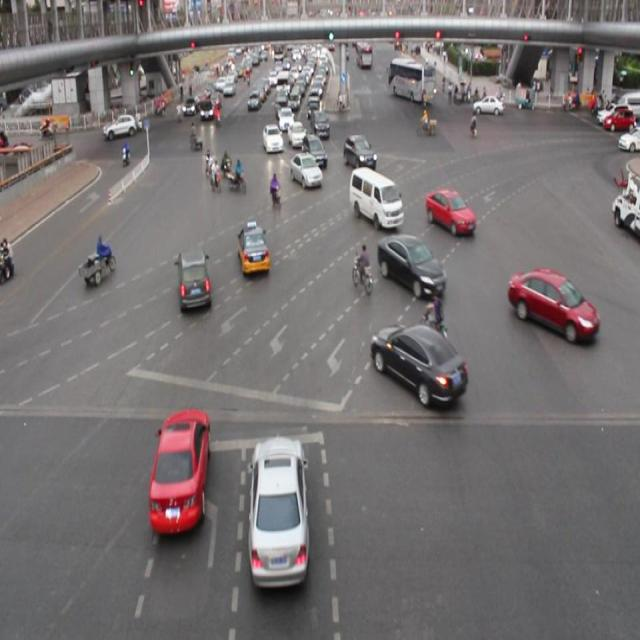car: (247, 434, 310, 590), (148, 408, 211, 539), (370, 324, 467, 406), (506, 267, 598, 345), (376, 234, 446, 298), (424, 184, 475, 239), (175, 245, 212, 316), (237, 216, 270, 278), (342, 132, 376, 174), (289, 150, 322, 191), (302, 130, 328, 172), (261, 120, 285, 158)
truck: (348, 165, 402, 228)
